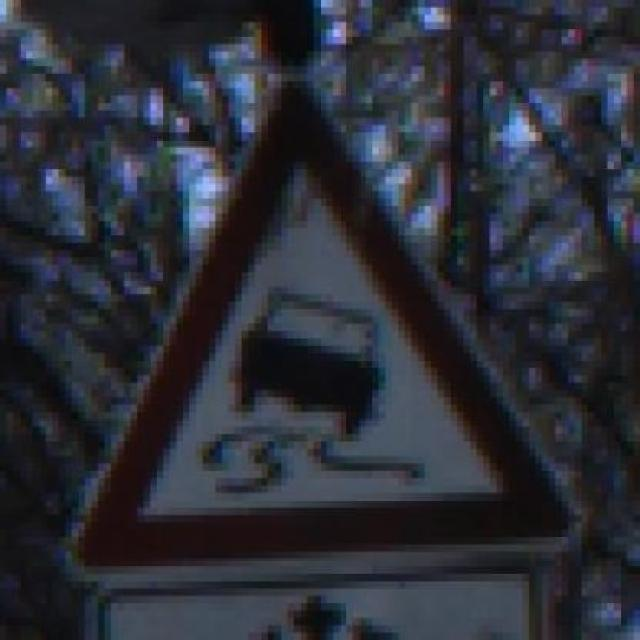Slippery Road Ahead: (65, 51, 588, 582)
